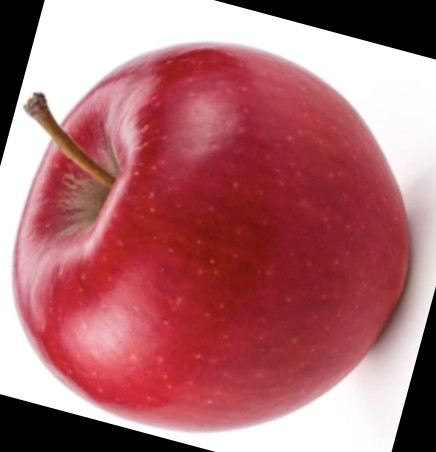fresh_apple: (14, 42, 417, 427)
